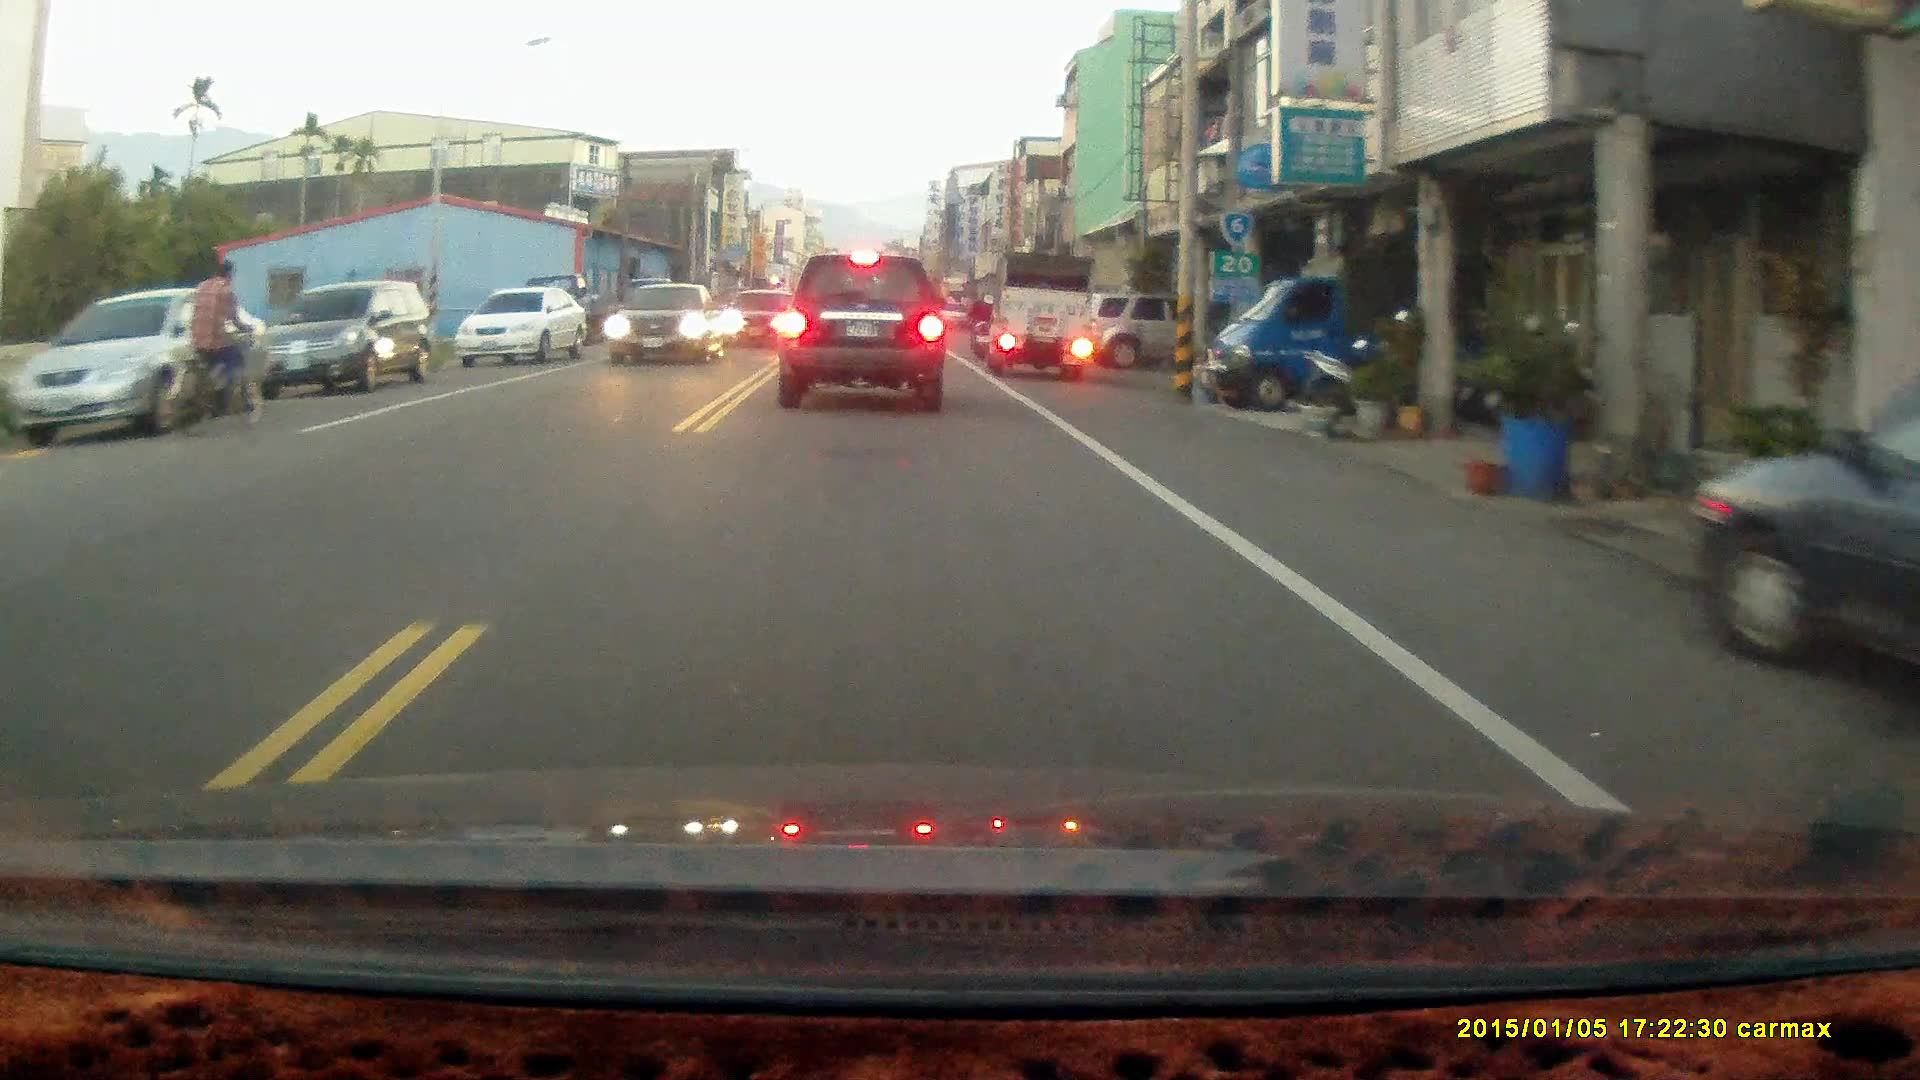rider: (166, 255, 265, 437), (964, 285, 999, 363)
vehicle: (1683, 359, 1920, 693), (1214, 231, 1425, 415), (18, 291, 261, 447), (777, 252, 948, 413), (253, 279, 441, 400), (991, 252, 1095, 381), (460, 287, 595, 369), (611, 282, 723, 366), (1089, 288, 1178, 371), (723, 286, 796, 352)
